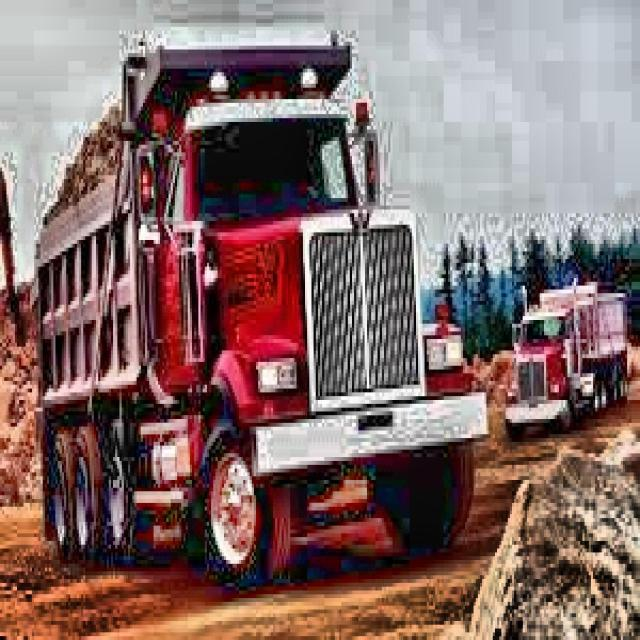dump_truck: (38, 36, 493, 592), (506, 275, 630, 441)
